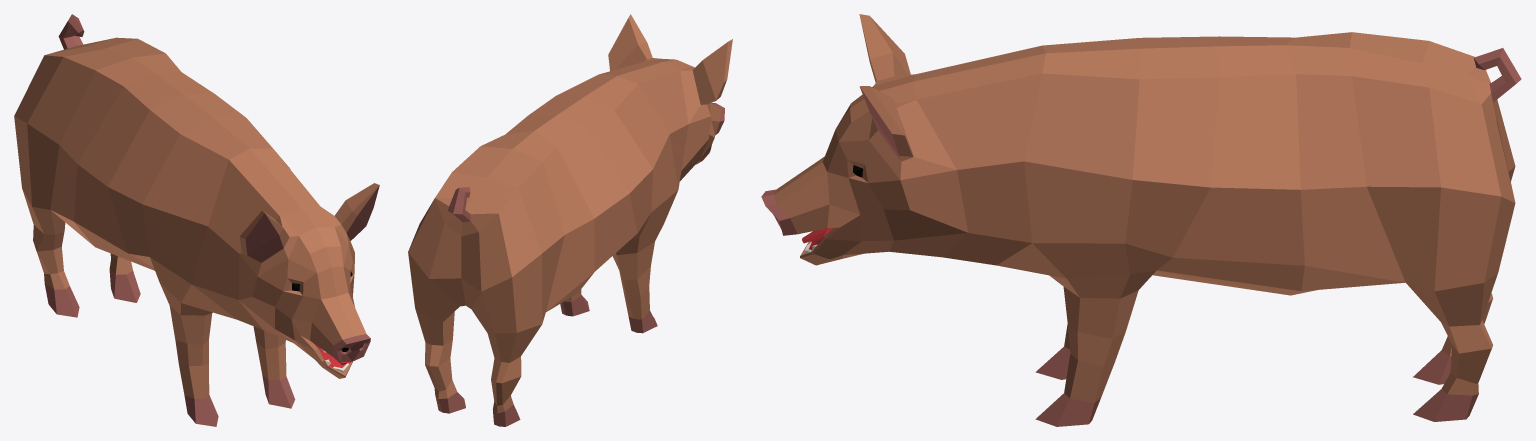
The model's file is pig.glb.
The picture shows the model from 3 angles, left to right: view 1: azimuth 30°, elevation 25°; view 2: azimuth 150°, elevation 25°; view 3: azimuth 270°, elevation 25°; orthographic projection. The views are drawn at different scales.
Parts seen in each view (by area): view 1: pig; view 2: pig; view 3: pig.
Boxes of the visible parts, bbox=[...] form: pig: bbox=[14, 14, 379, 426]; pig: bbox=[408, 14, 732, 426]; pig: bbox=[761, 14, 1521, 426].
Size of the model in its own units: 0.5366 by 0.8965 by 1.76.
